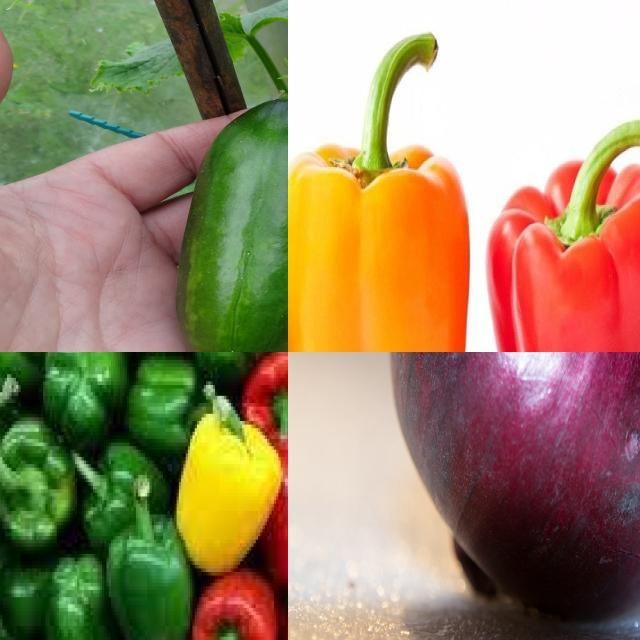bell_pepper: (289, 28, 470, 353), (488, 125, 640, 353), (105, 476, 196, 640), (43, 353, 130, 455), (180, 353, 282, 393)
cucumber: (170, 99, 289, 353)
onion: (389, 353, 640, 622)
